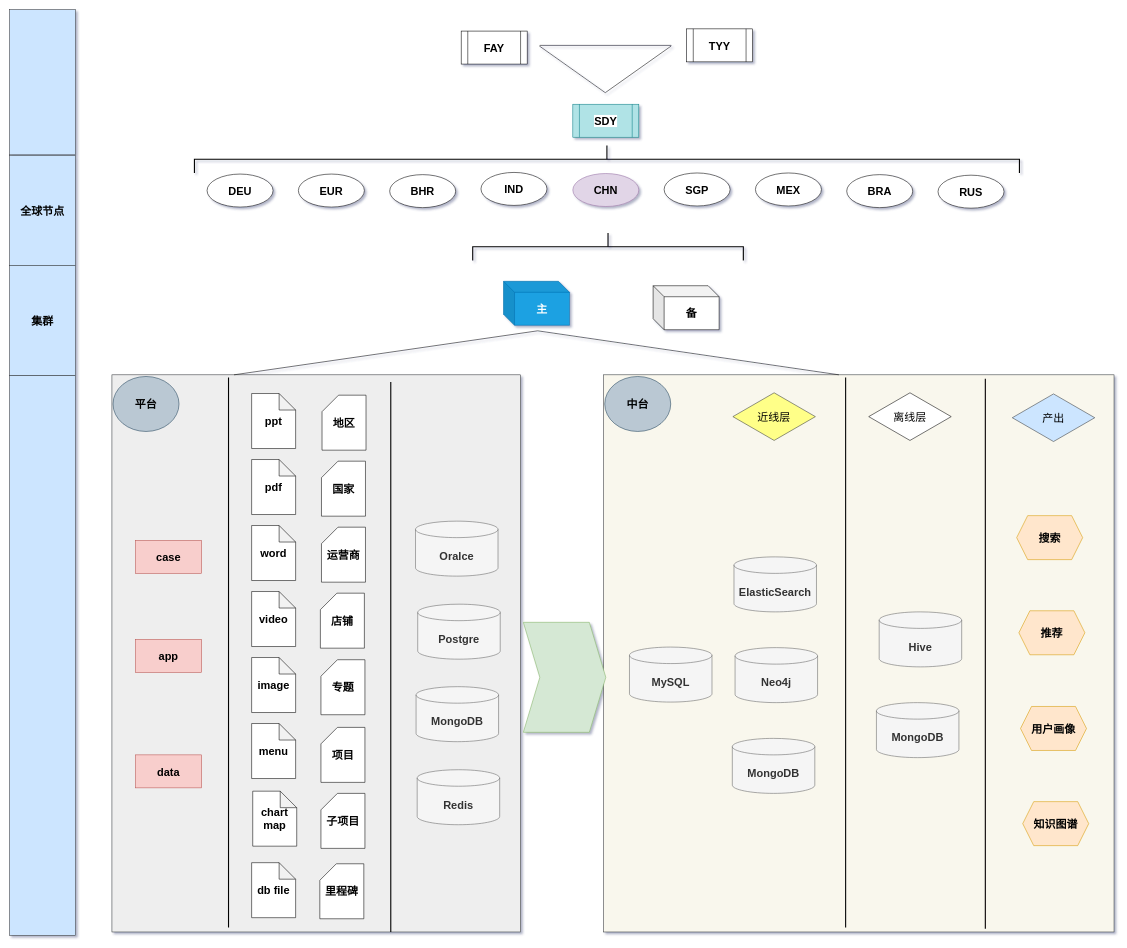
Image size: 1127x948. Some labels were removed from this diagram. The centre of each missing label's shape, as x and y in pixels:
合作部门: the point at 42,82
数据流向: the point at 42,655
数据集成: the point at 564,677
